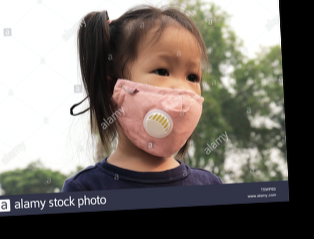with_mask: (112, 50, 206, 159)
